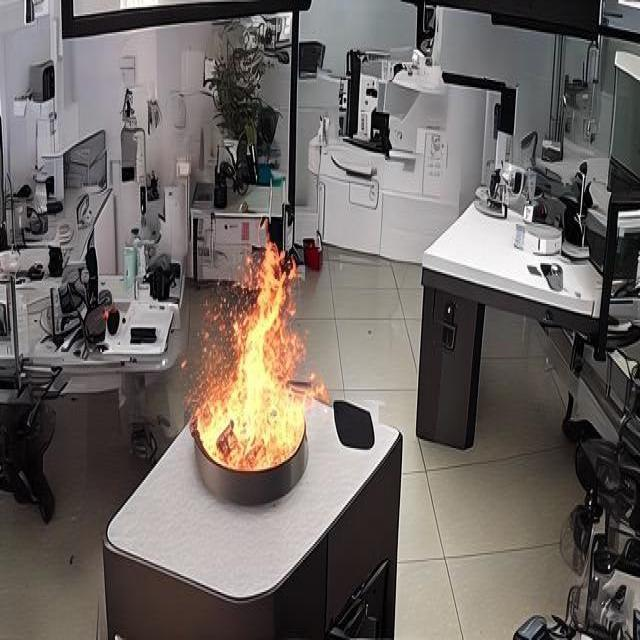smoke: (193, 234, 305, 496)
